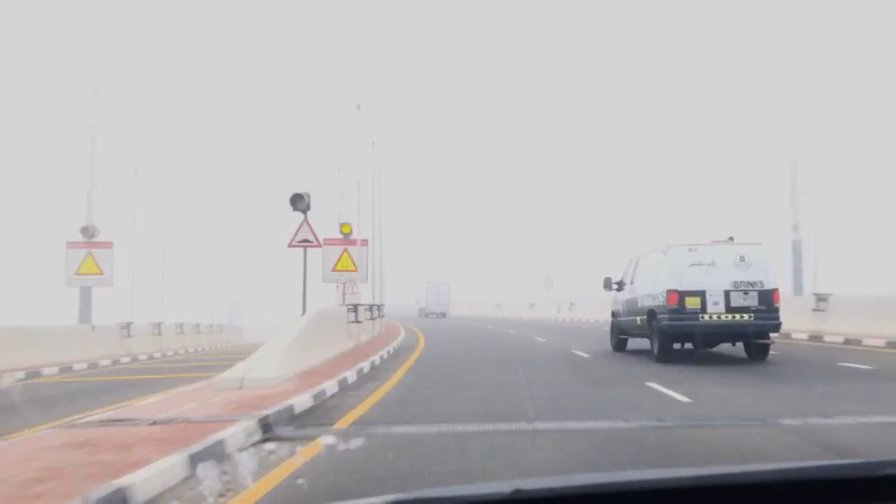bus: (416, 282, 452, 320)
car: (602, 235, 785, 364)
